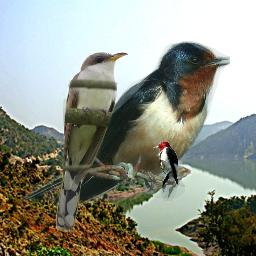Cuckoo: (56, 51, 129, 232)
Swallow: (21, 41, 230, 206)
Woodpecker: (152, 141, 179, 186)
